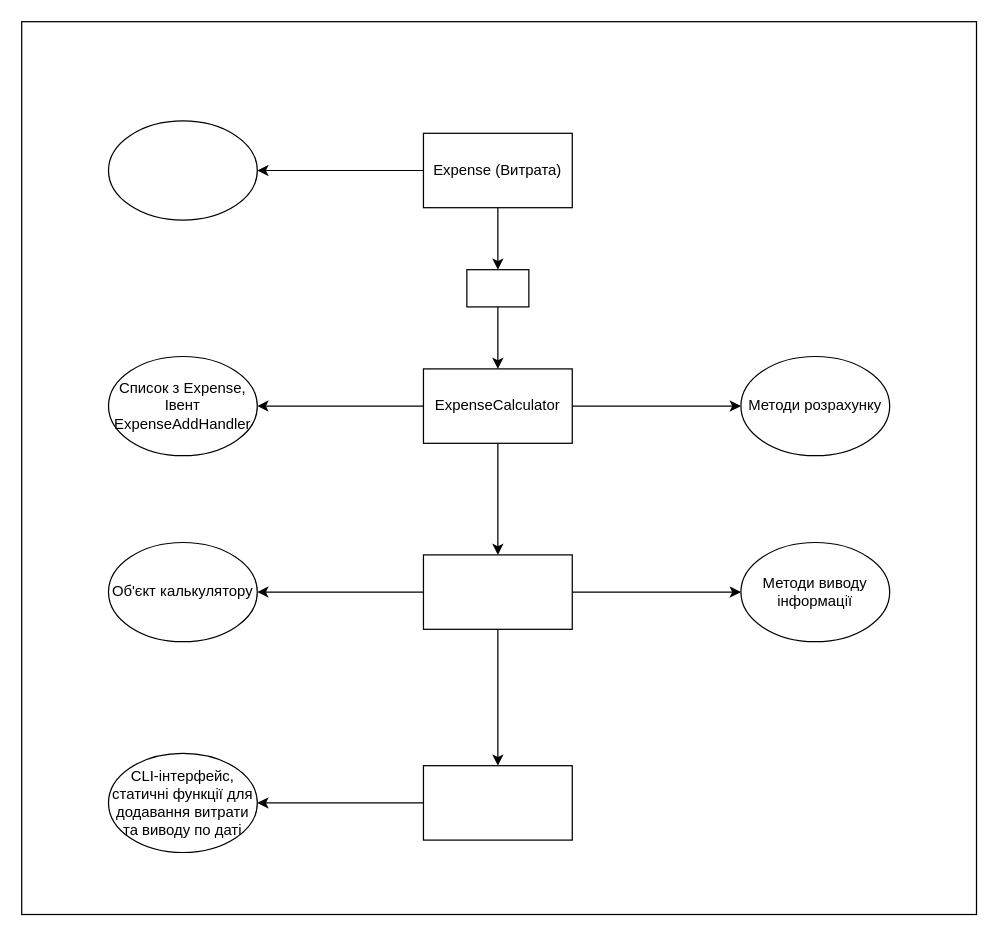
The diagram is 998 pixels wide and 936 high, and some of its shapes have lost their labels. The box of each missing label's shape, as (x1, y1, x2, y2) in pixels:
ExpenseView: (422, 554, 572, 629)
Handler: (466, 268, 529, 307)
Name, Amount, date: (107, 120, 257, 220)
Взаємодія крізь статичні функціі/класс: (422, 764, 572, 840)
